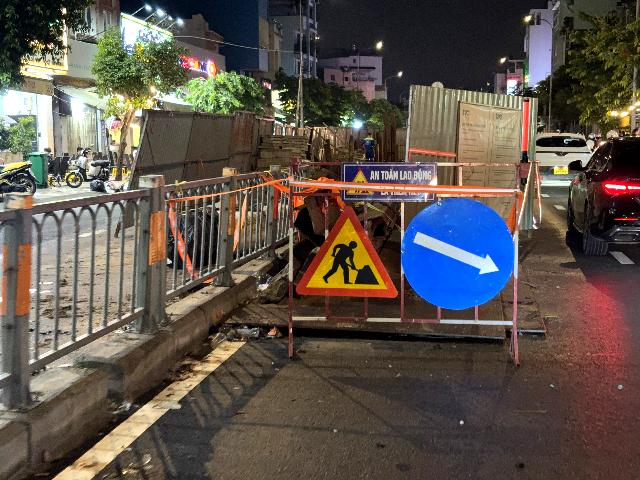cong-truong-dang-thi-cong: (296, 207, 398, 298)
huong-phai-di-vong-chuong-ngai-vat: (402, 197, 515, 310)
